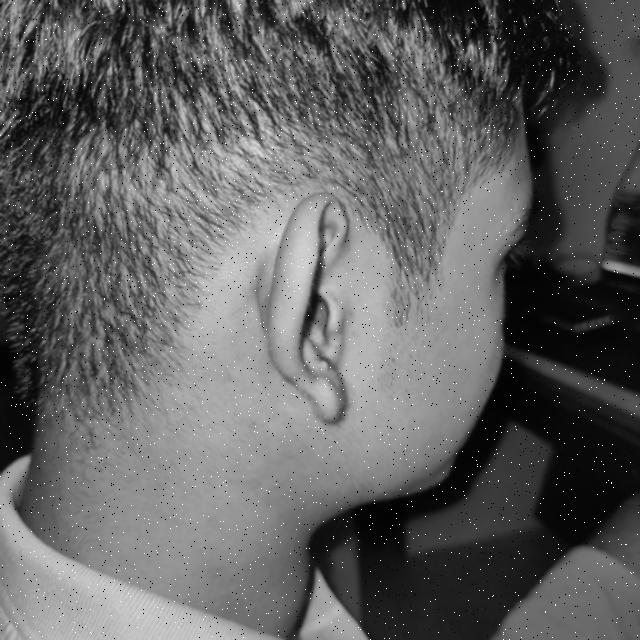ear: (263, 193, 348, 421)
